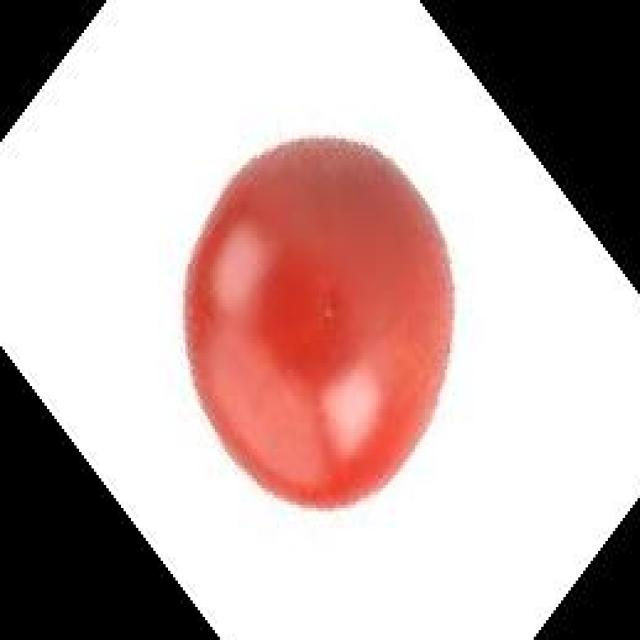Tomato: (178, 125, 458, 512)
